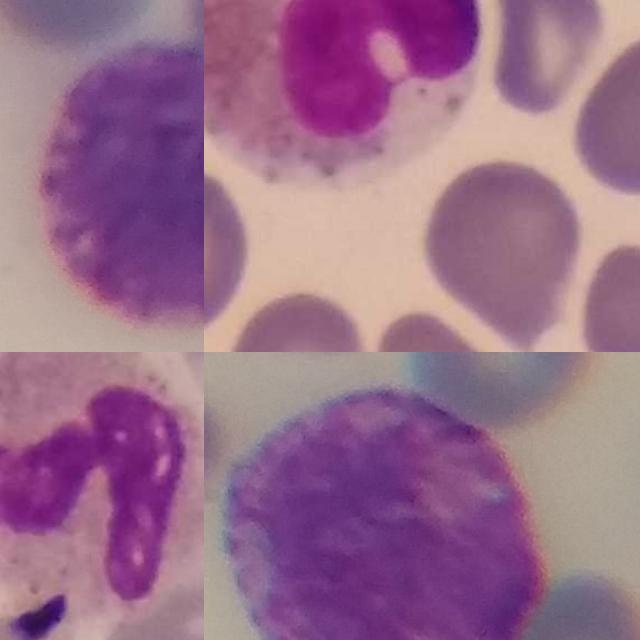Basophil: (222, 387, 543, 640), (43, 42, 204, 325)
Eosinophil: (204, 0, 481, 191)
Neutrophil: (0, 352, 204, 602)
